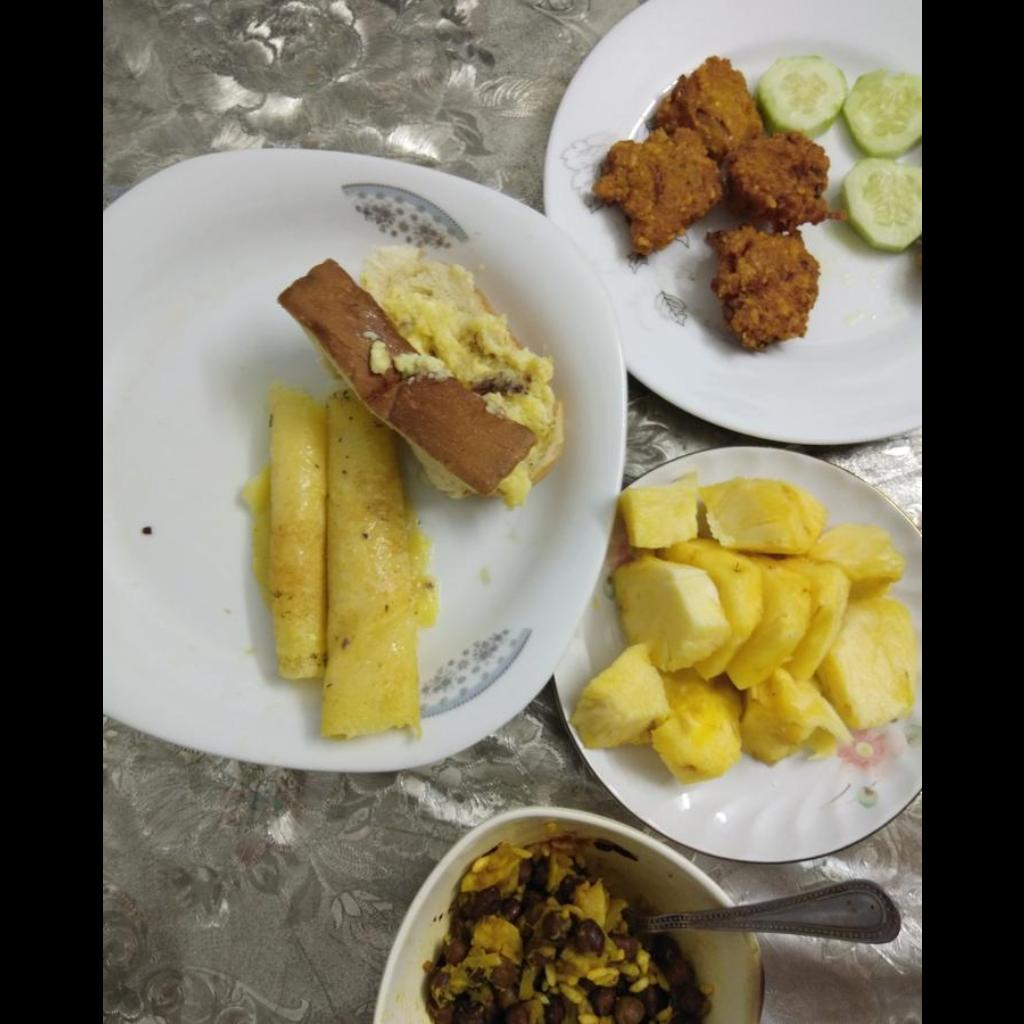chola: (423, 839, 707, 1023)
cucumber: (768, 64, 920, 254)
peyaju: (587, 57, 823, 357)
pineapple: (580, 470, 920, 772)
sweets: (279, 247, 562, 506), (271, 393, 421, 738)
